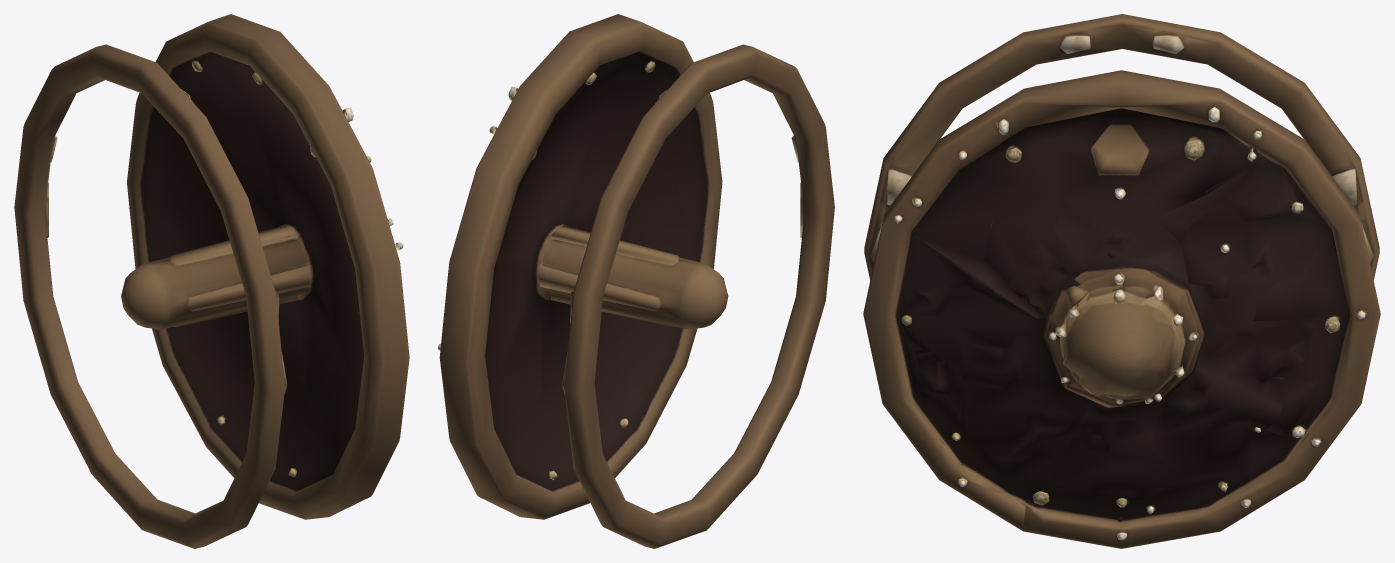
The model's file is emberband_round.glb.
3 views of the same model, side by side, from view 1: azimuth 30°, elevation 25°; view 2: azimuth 150°, elevation 25°; view 3: azimuth 270°, elevation 25° (orthographic).
Parts seen in each view (by area): view 1: base_model_path; view 2: base_model_path; view 3: base_model_path.
Part boxes in pixels (box(x1,y1,x2,y2)): base_model_path: box(14, 14, 409, 548); base_model_path: box(438, 14, 834, 548); base_model_path: box(863, 14, 1380, 548).
Size of the model in its own units: 0.5736 by 1 by 1.
Materials: 1 (1 with a texture image).
